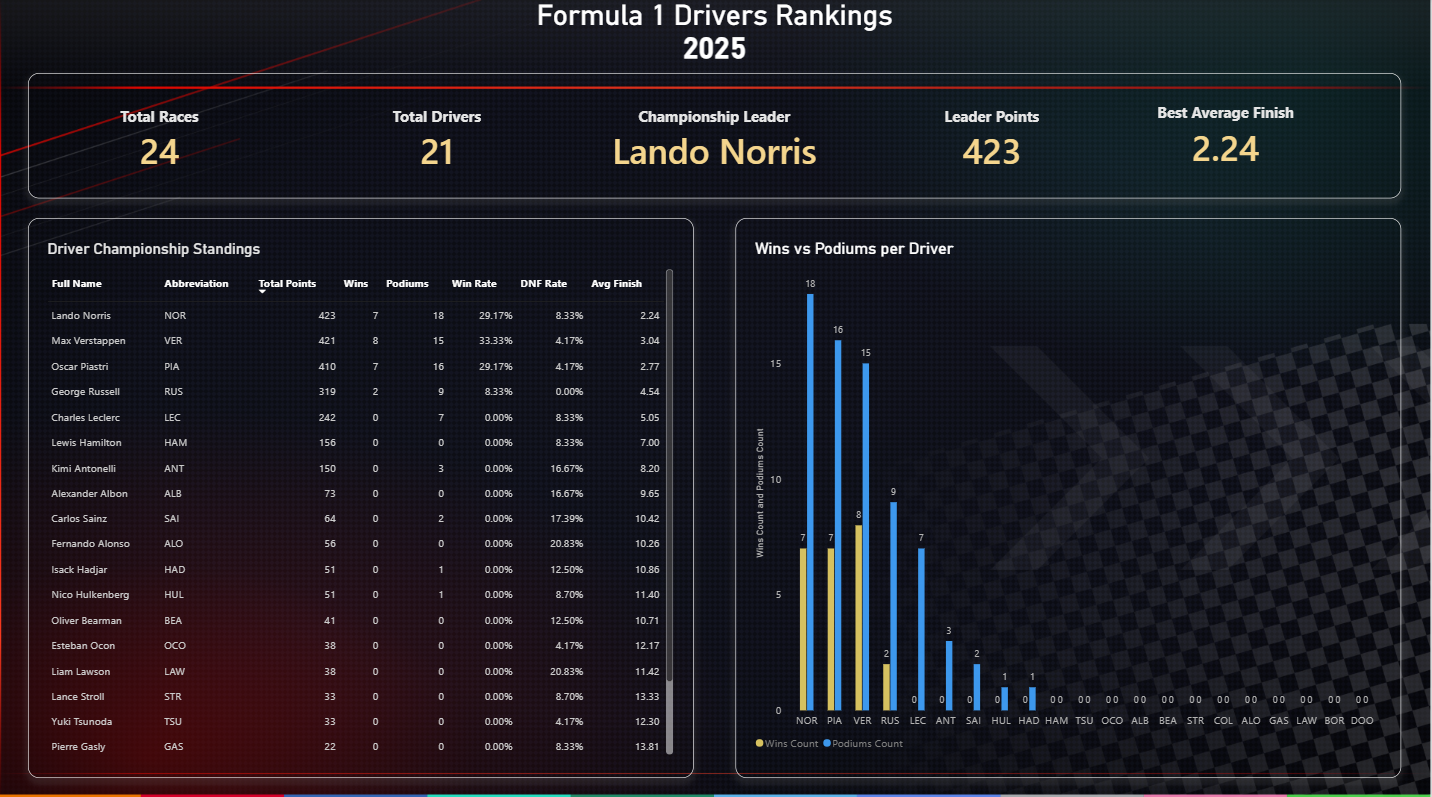

The dashboard page shown, as its layout file describes it:
{"tool":"powerbi","page":{"name":"Season Rankings","canvas":[1920,1080],"ordinal":0},"visuals":[{"type":"shape","box":[40,100,1840,168],"z":0},{"type":"shape","box":[988,294,892,750],"z":500},{"type":"shape","box":[40,295,892,750],"z":750},{"type":"tableEx","title":"Driver Championship Standings","fields":{"Values":["2025_master_summary.Full Name","2025_master_summary.Abbreviation","2025_master_summary.Total Points","2025_master_summary.Wins Count","2025_master_summary.Podium Count","2025_master_summary.Win Rate","2025_master_summary.DNF Rate","2025_master_summary.Races Avg Finish"]},"box":[50,310,870,720],"z":1000},{"type":"clusteredColumnChart","title":"Wins vs Podiums per Driver","fields":{"Category":["2025_master_summary.Abbreviation"],"Y":["Sum(2025_master_summary.Wins Count)","Sum(2025_master_summary.Podium Count)"]},"box":[998,308,870,720],"z":2000},{"type":"cardVisual","fields":{"Data":["2025_master_summary.Total Drivers"]},"box":[412,120,352,140],"z":3000},{"type":"cardVisual","fields":{"Data":["2025_master_summary.Total Races"]},"box":[40,120,352,140],"z":4000},{"type":"cardVisual","fields":{"Data":["2025_master_summary.Highest Points"]},"box":[1156.2,120,352,140],"z":5000},{"type":"cardVisual","fields":{"Data":["2025_master_summary.Best Average Finish"]},"box":[1469.1,115.5,352,140],"z":6000},{"type":"cardVisual","fields":{"Data":["2025_master_summary.Championship Leader"]},"box":[783.8,120,352,140],"z":7000},{"type":"textbox","box":[542.1,0,835.8,99.4],"z":8000}]}

Visuals, with their boxes in screenshot pixels (x1, y1, x2, y2), scaled from the page's 1920x1080 canvas onto the 1432x797 screenshot:
shape: {"left": 30, "top": 74, "right": 1402, "bottom": 198}
shape: {"left": 737, "top": 217, "right": 1402, "bottom": 770}
shape: {"left": 30, "top": 218, "right": 695, "bottom": 771}
"Driver Championship Standings" tableEx: {"left": 37, "top": 229, "right": 686, "bottom": 760}
"Wins vs Podiums per Driver" clusteredColumnChart: {"left": 744, "top": 227, "right": 1393, "bottom": 759}
cardVisual - 2025_master_summary.Total Drivers: {"left": 307, "top": 89, "right": 570, "bottom": 192}
cardVisual - 2025_master_summary.Total Races: {"left": 30, "top": 89, "right": 292, "bottom": 192}
cardVisual - 2025_master_summary.Highest Points: {"left": 862, "top": 89, "right": 1125, "bottom": 192}
cardVisual - 2025_master_summary.Best Average Finish: {"left": 1096, "top": 85, "right": 1358, "bottom": 189}
cardVisual - 2025_master_summary.Championship Leader: {"left": 585, "top": 89, "right": 847, "bottom": 192}
textbox: {"left": 404, "top": 0, "right": 1028, "bottom": 73}
